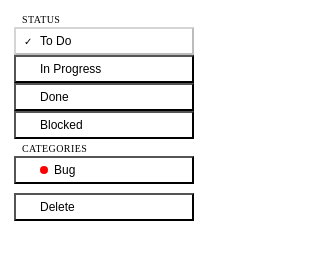
Scenario: TaskContextMenu › keeps the menu open and shows why when a status change is rejected
Click the menu item "Done". click: [104, 97]
box: 14,83 -> 194,111
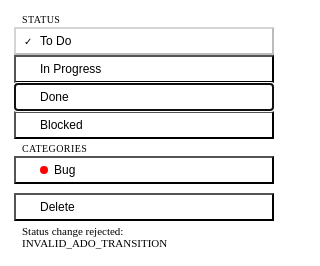
Expected: the message shows "INVALID_ADO_TRANSITION", 22,225 -> 167,249
